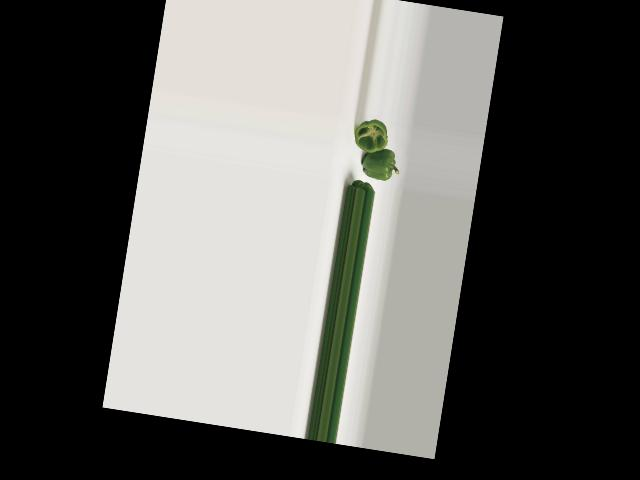bell_pepper: (349, 114, 394, 157)
